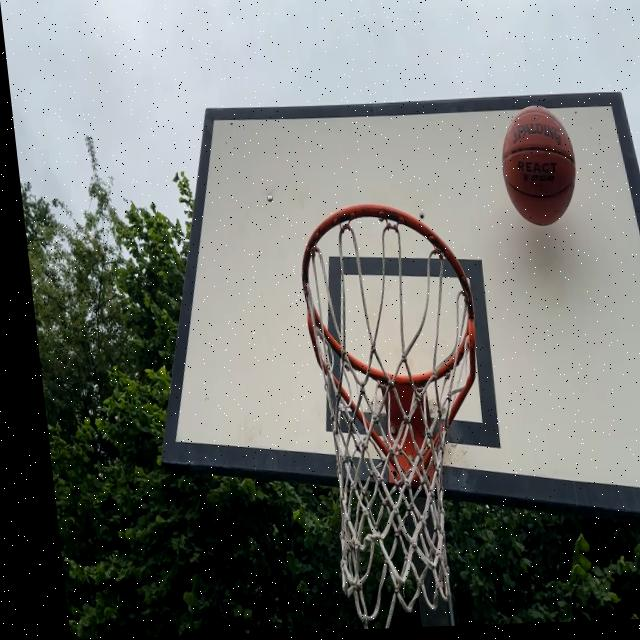Basketball: (496, 105, 583, 227)
